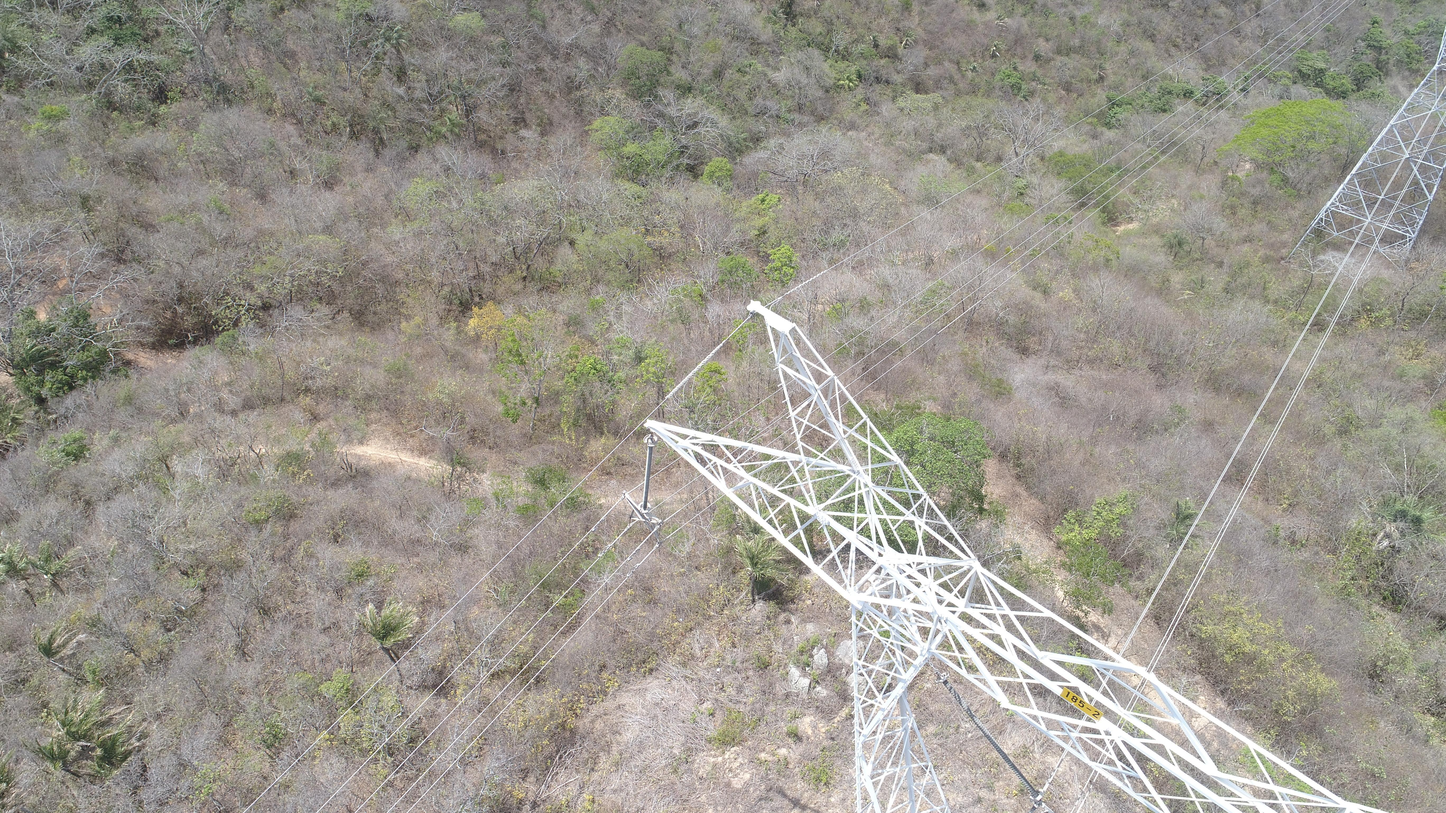power_tower: (624, 302, 1395, 812), (1283, 15, 1445, 267)
